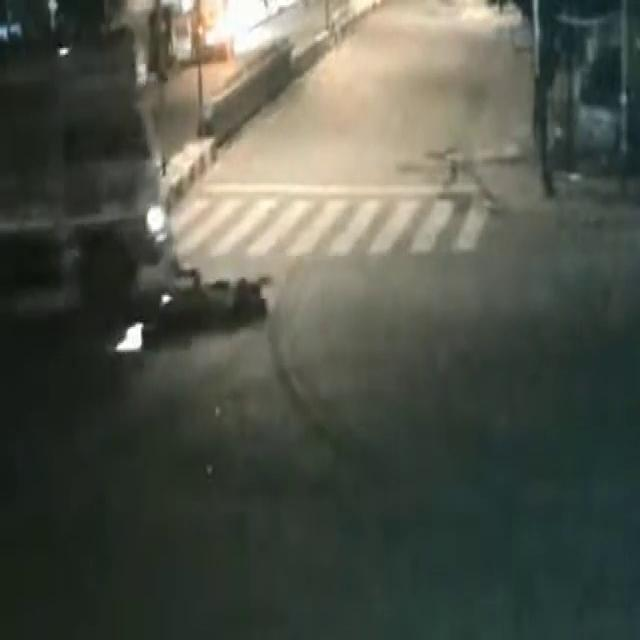accident: (0, 139, 276, 396)
